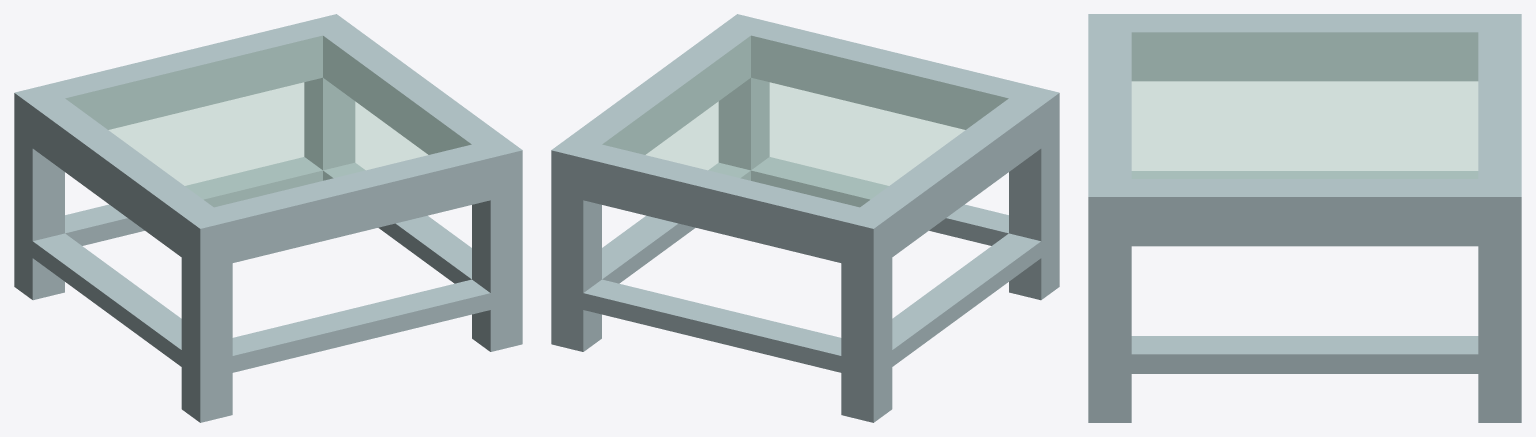
File: tableCoffeeGlassSquare.glb
3 renders of one model, left to right at view 1: azimuth 30°, elevation 25°; view 2: azimuth 150°, elevation 25°; view 3: azimuth 270°, elevation 25°, orthographic. The views are drawn at different scales.
Parts seen in each view (by area): view 1: tableCoffeeGlassSquare; view 2: tableCoffeeGlassSquare; view 3: tableCoffeeGlassSquare.
Boxes of the visible parts, x1=… form: tableCoffeeGlassSquare: x1=14, y1=14, x2=522, y2=422; tableCoffeeGlassSquare: x1=551, y1=14, x2=1059, y2=422; tableCoffeeGlassSquare: x1=1088, y1=14, x2=1521, y2=422.
Bounding box in the file's own units: 0.9549 × 0.5491 × 0.9549.
